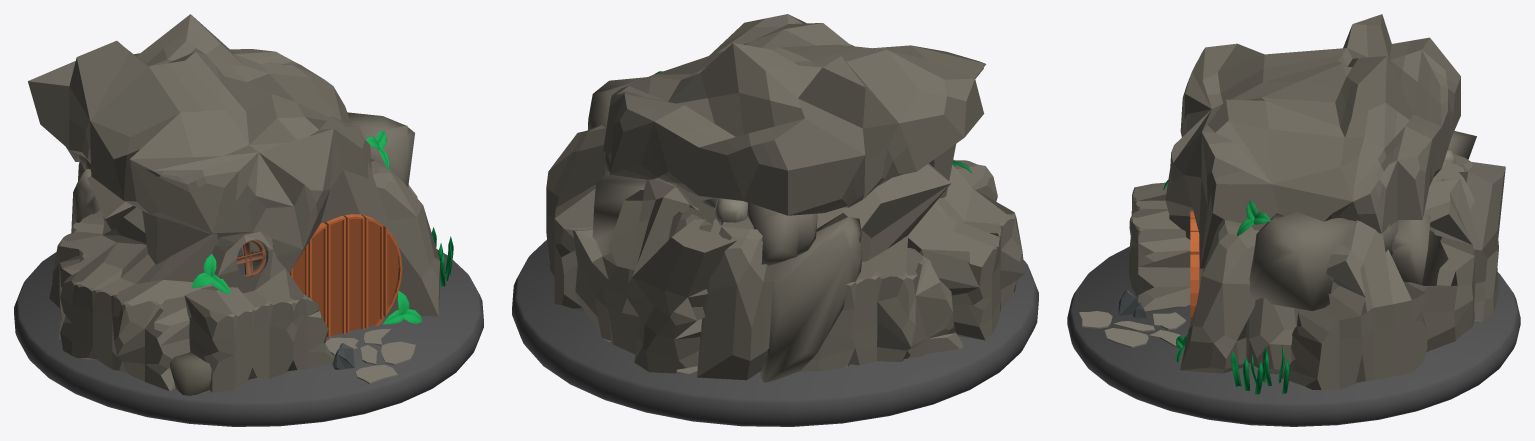
Rendered from Cave (1).fbx.
3 views of the same model, side by side, from view 1: azimuth 30°, elevation 25°; view 2: azimuth 150°, elevation 25°; view 3: azimuth 270°, elevation 25° (orthographic). The views are drawn at different scales.
Visible parts, largest first — view 1: Cube.059; view 2: Cube.059; view 3: Cube.059.
Boxes of the visible parts, x1,y1,x2,y2 form: Cube.059: (14,14,483,426); Cube.059: (512,14,1038,426); Cube.059: (1067,14,1520,426).
Size of the model in its own units: 1606 by 1065 by 1606.
